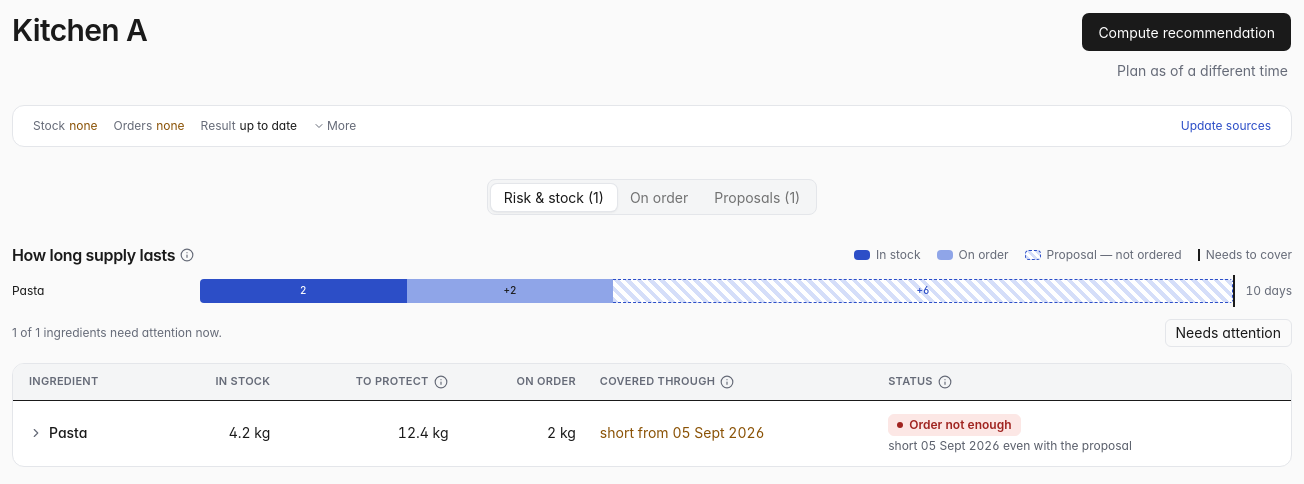
Test: observed supplier documents › treats "never imported" as an empty state, not an error
The image size is (1304, 484).
Click the tab "On order" at point(659, 197), box x1=617 y1=184 x2=701 y2=210
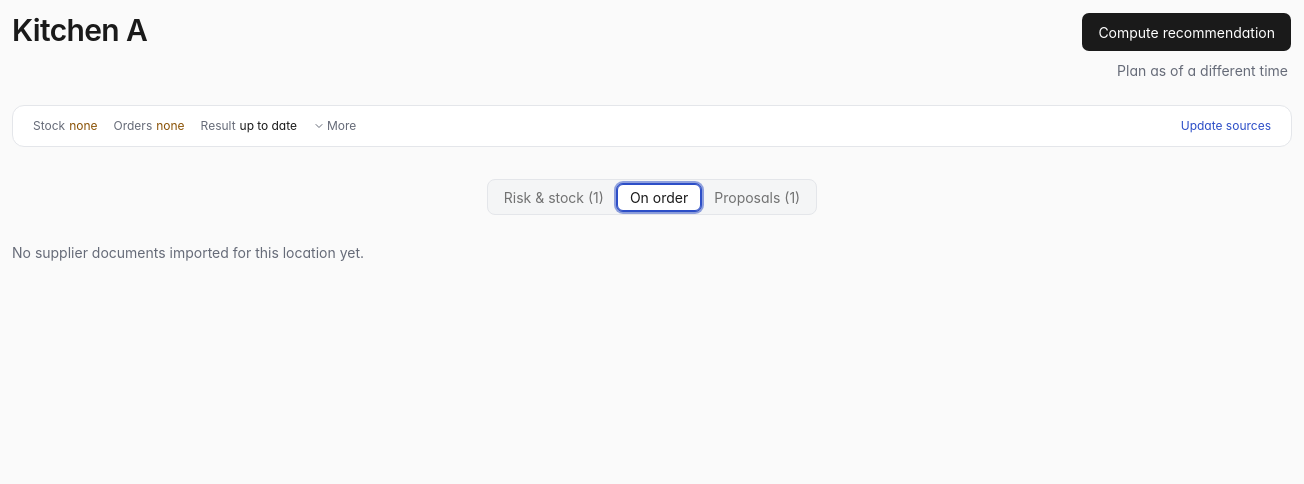
Expected: the text "No supplier documents imported for this location yet." is shown, x1=12 y1=244 x2=364 y2=261
